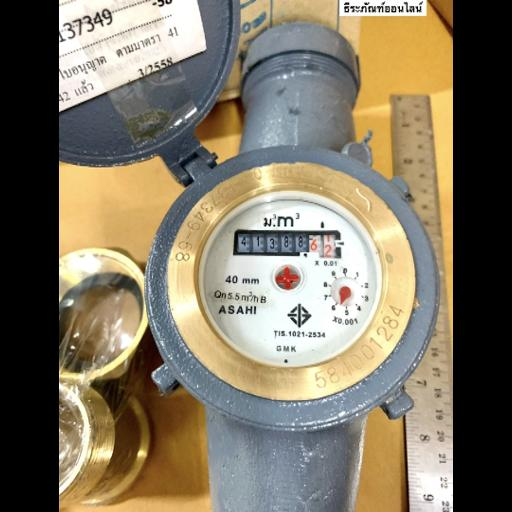1: (254, 234, 265, 252)
2: (324, 235, 334, 257)
3: (267, 234, 278, 252)
4: (238, 234, 250, 252)
6: (310, 235, 321, 252)
8: (281, 234, 293, 252), (296, 234, 306, 252)
border_water_meter_number: (234, 230, 342, 259)
